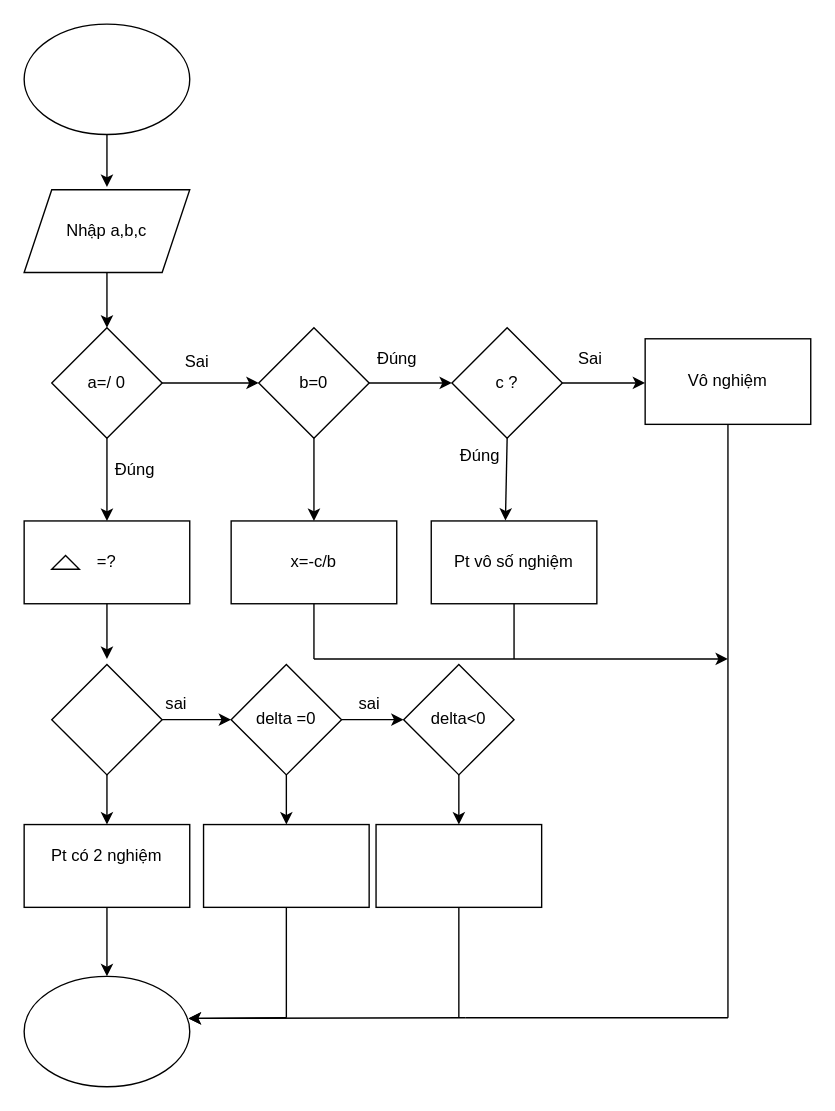
This 835x1111 diagram has some shape labels left out. Here are the shapes that lost their labels. From the top down, the box of each, then its label:
(23, 23, 190, 135): Start
(50, 663, 162, 775): delta >0
(202, 823, 369, 907): pt có nghiệm kép
(375, 823, 542, 907): pt vô nghiệm
(23, 975, 190, 1087): End
